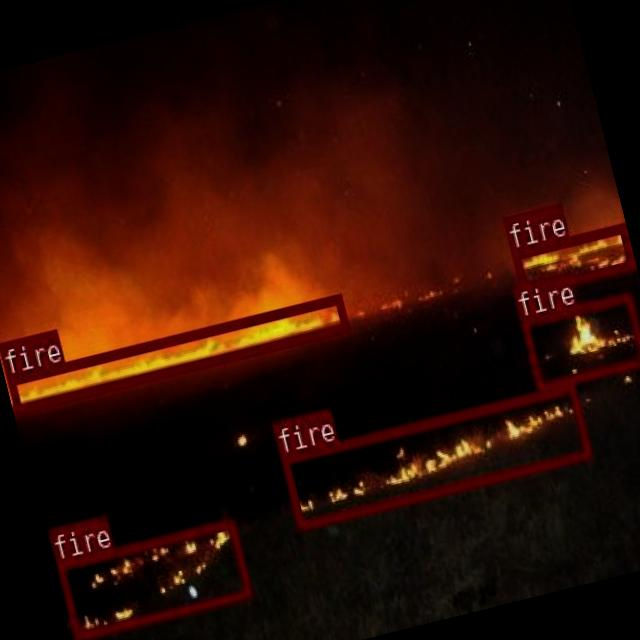fire: (278, 382, 591, 528), (4, 292, 349, 412), (54, 517, 251, 640), (517, 290, 640, 389), (510, 222, 633, 294)
